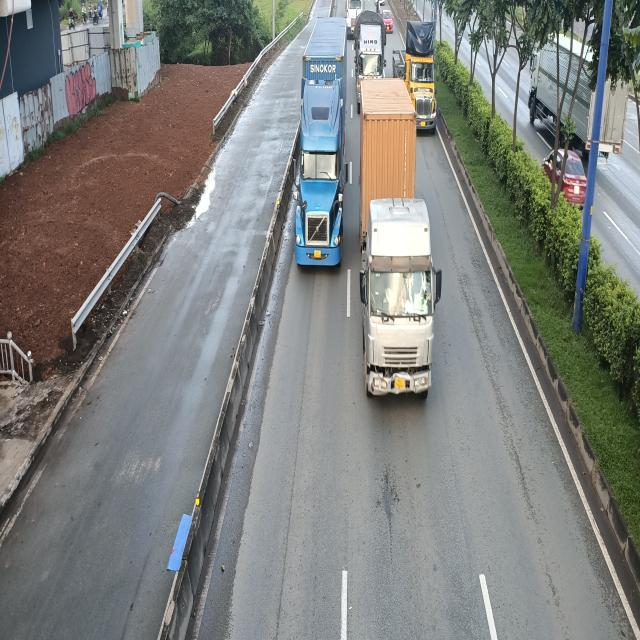container: (360, 75, 442, 394), (292, 19, 348, 276), (393, 20, 438, 136), (355, 8, 387, 111)
